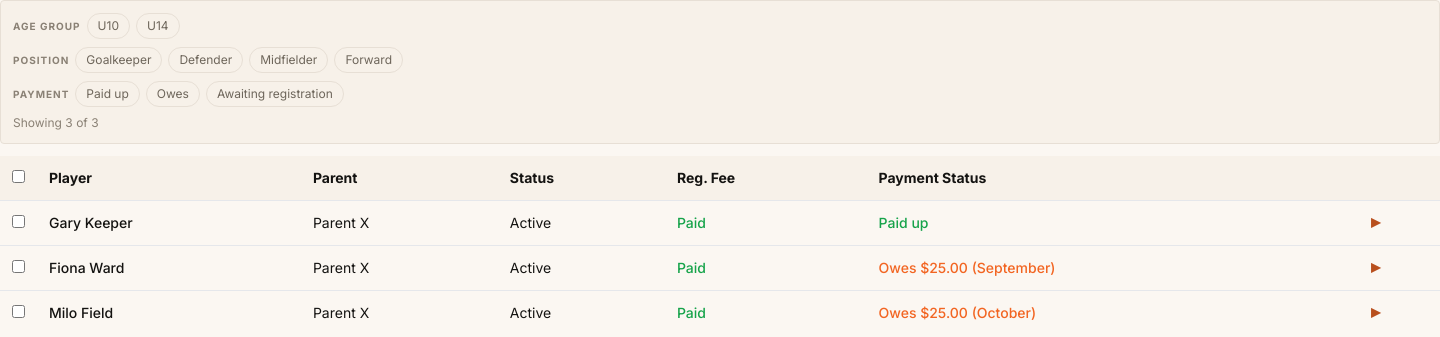
Test: PlayersTable filters › narrows rows by a single filter
Expected: the text "Showing 3 of 3" is shown, top-left (13, 115), bottom-right (99, 131)
Click the button "Goalkeeper" at coordinates (119, 60), box top-left (75, 47), bottom-right (162, 73)
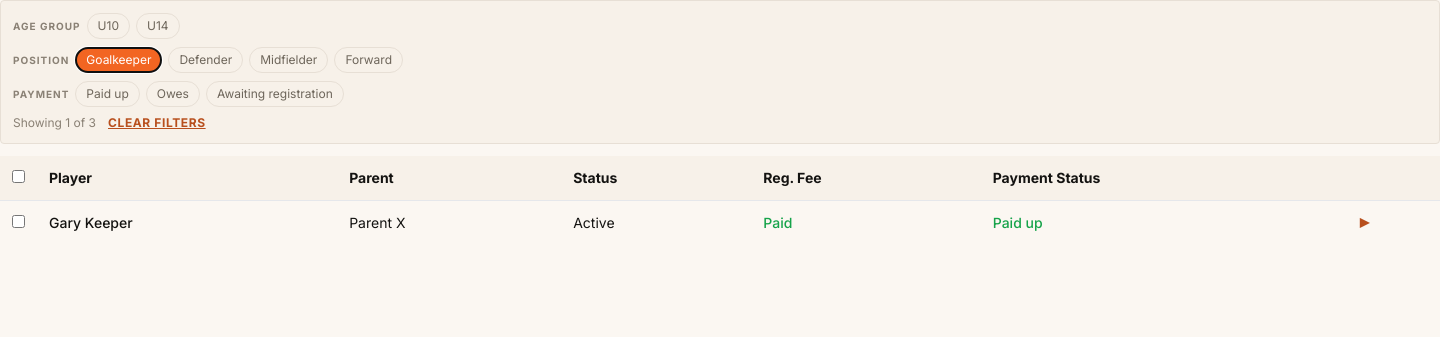
Expected: the text "Gary Keeper" is shown, top-left (37, 200), bottom-right (337, 245)
Result: the text "Showing 1 of 3" is shown at top-left (13, 115), bottom-right (96, 131)
Result: the text "Fiona Ward" is gone
